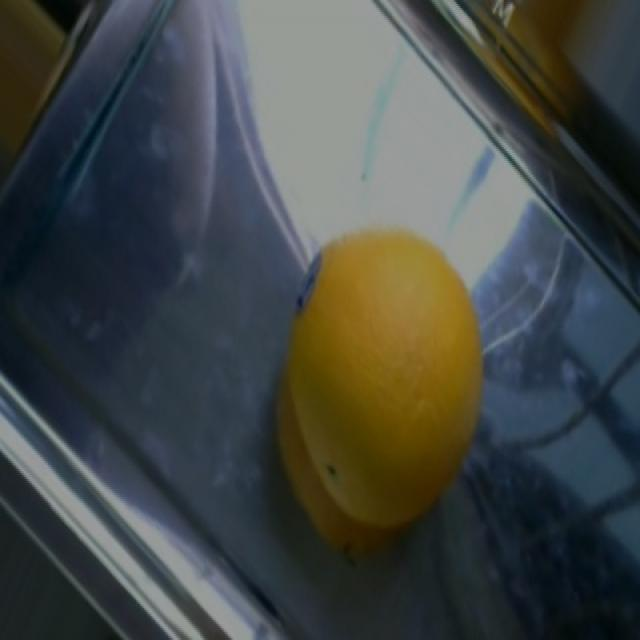Fruit: (260, 208, 501, 558)
